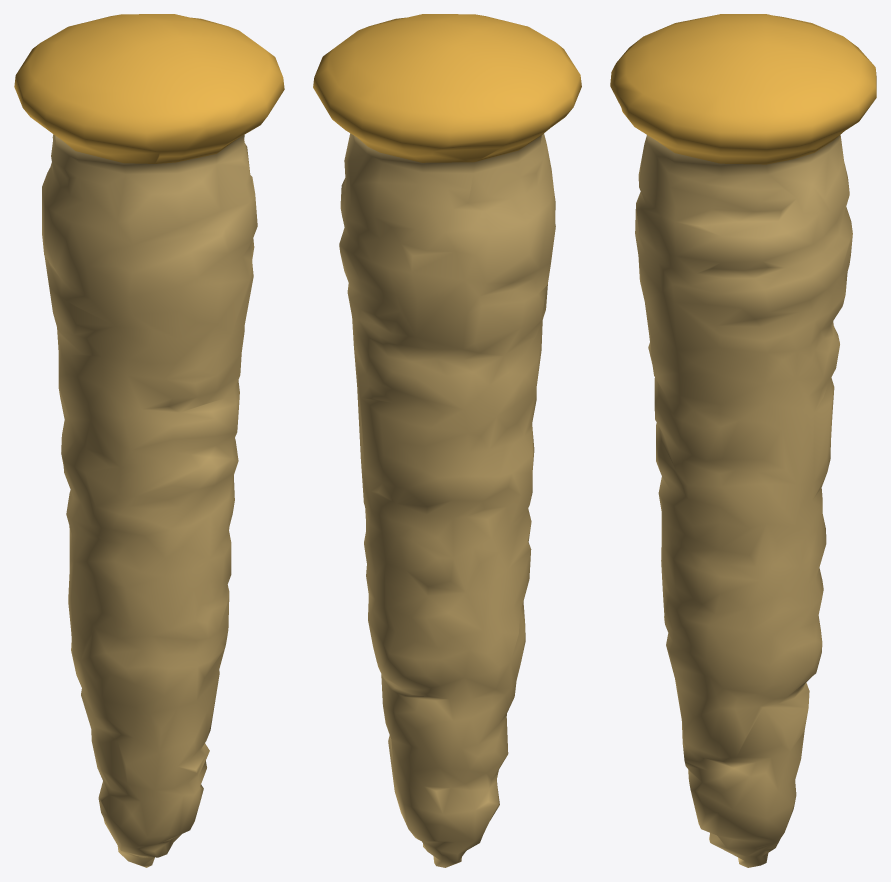
The model's file is krapnik.fbx.
3 renders of one model, left to right at view 1: azimuth 30°, elevation 25°; view 2: azimuth 150°, elevation 25°; view 3: azimuth 270°, elevation 25°, orthographic.
Visible parts, largest first — view 1: krapnik; view 2: krapnik; view 3: krapnik.
Part boxes in pixels (<box>): krapnik: <box>14,14,284,867</box>; krapnik: <box>313,14,581,867</box>; krapnik: <box>610,14,876,867</box>.
Bounding box in the file's own units: 86.18 × 298 × 86.3.
